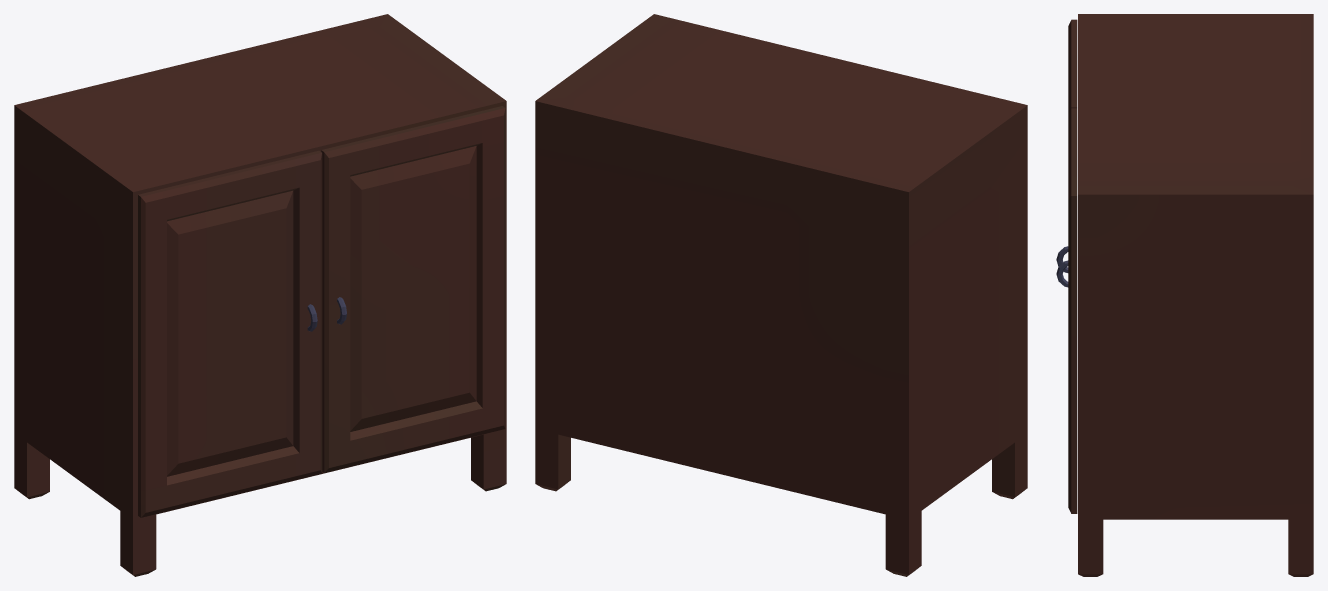
The model's file is armario-baixo.glb.
3 renders of one model, left to right at view 1: azimuth 30°, elevation 25°; view 2: azimuth 150°, elevation 25°; view 3: azimuth 270°, elevation 25°, orthographic.
Visible parts, largest first — view 1: cabinet; view 2: cabinet; view 3: cabinet.
Boxes of the visible parts, box(x1,y1,x2,y2) form: cabinet: box(14, 14, 506, 576); cabinet: box(535, 14, 1027, 576); cabinet: box(1056, 14, 1313, 576).
Bounding box in the file's own units: 0.9068 × 0.9 × 0.5455.
Materials: 1 (1 with a texture image).
